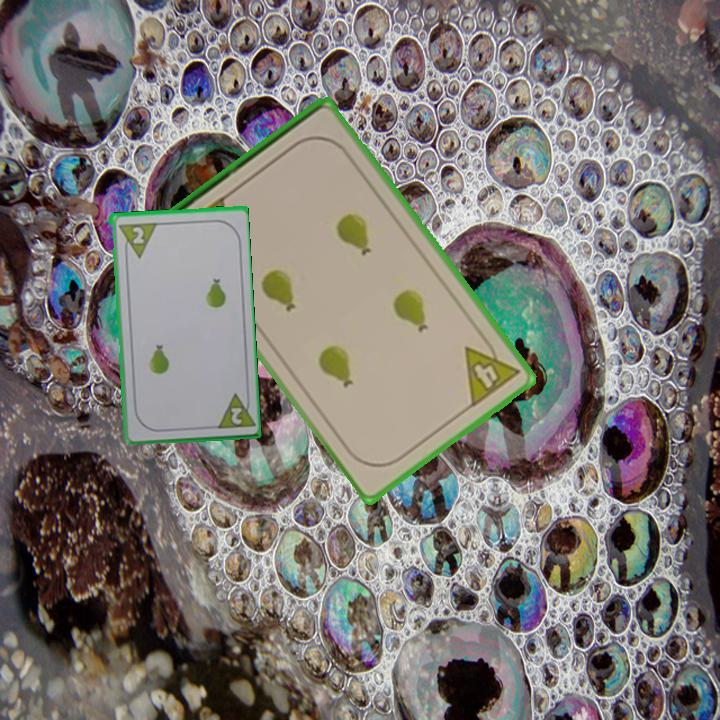2p: (227, 404, 245, 428), (128, 223, 146, 246)
4p: (461, 331, 523, 411)
